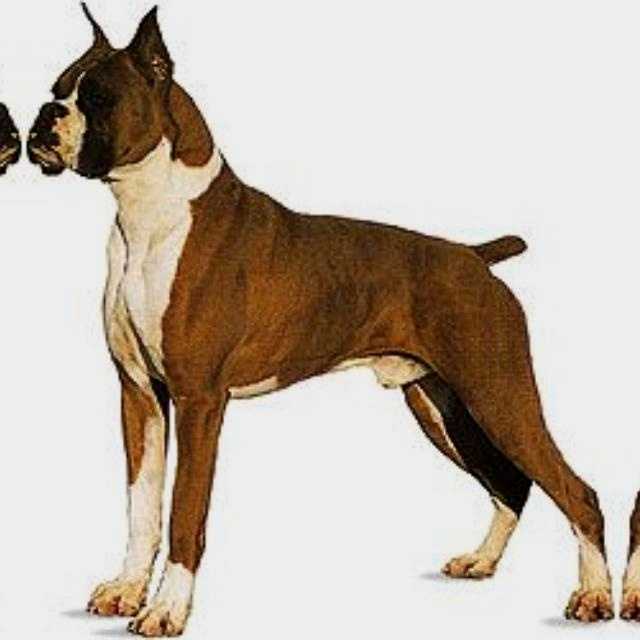dog: (23, 0, 617, 640), (0, 0, 23, 640), (617, 0, 640, 640)
